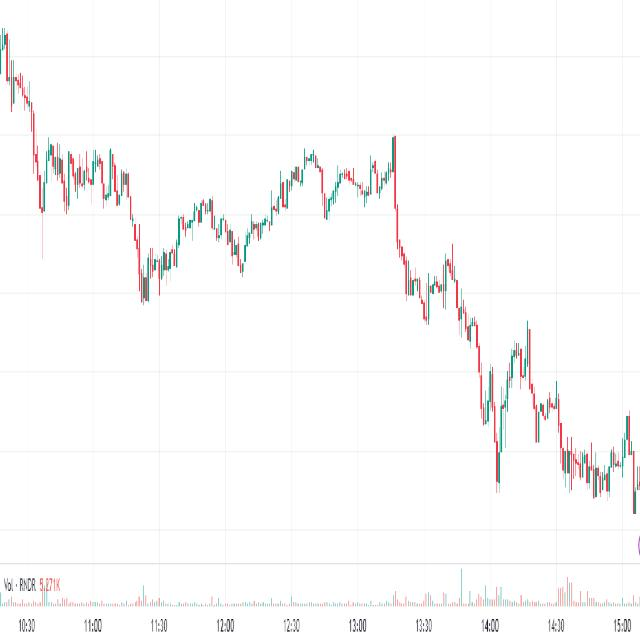Inverse-Head-Shoulders: (474, 302, 530, 502)
rectangle: (30, 138, 136, 222)
